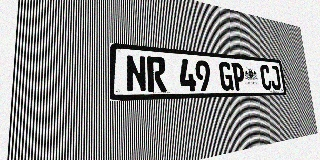4: (179, 59, 196, 91)
9: (195, 60, 211, 91)
C: (259, 65, 272, 90)
G: (218, 62, 234, 91)
J: (269, 65, 281, 90)
N: (125, 55, 147, 92)
P: (231, 63, 246, 90)
R: (146, 56, 167, 92)
